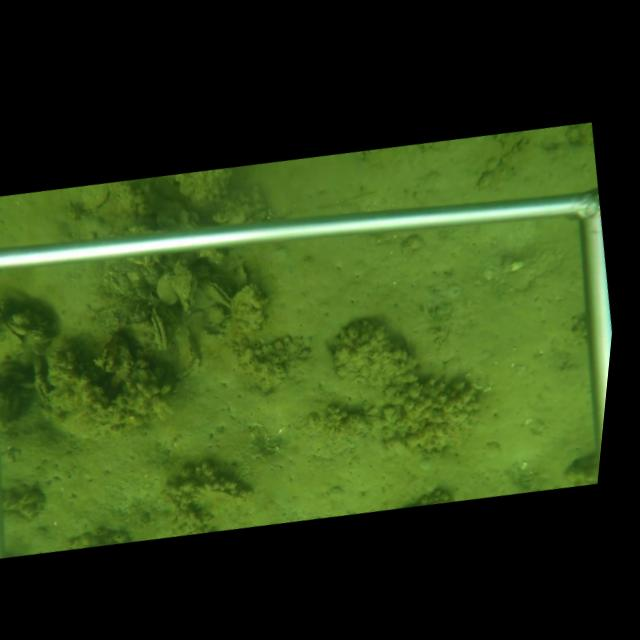Oyster-Closed: (172, 325, 204, 384), (167, 259, 198, 317), (203, 275, 236, 313), (148, 306, 170, 355), (114, 266, 133, 275), (146, 265, 160, 274), (143, 256, 151, 265)
